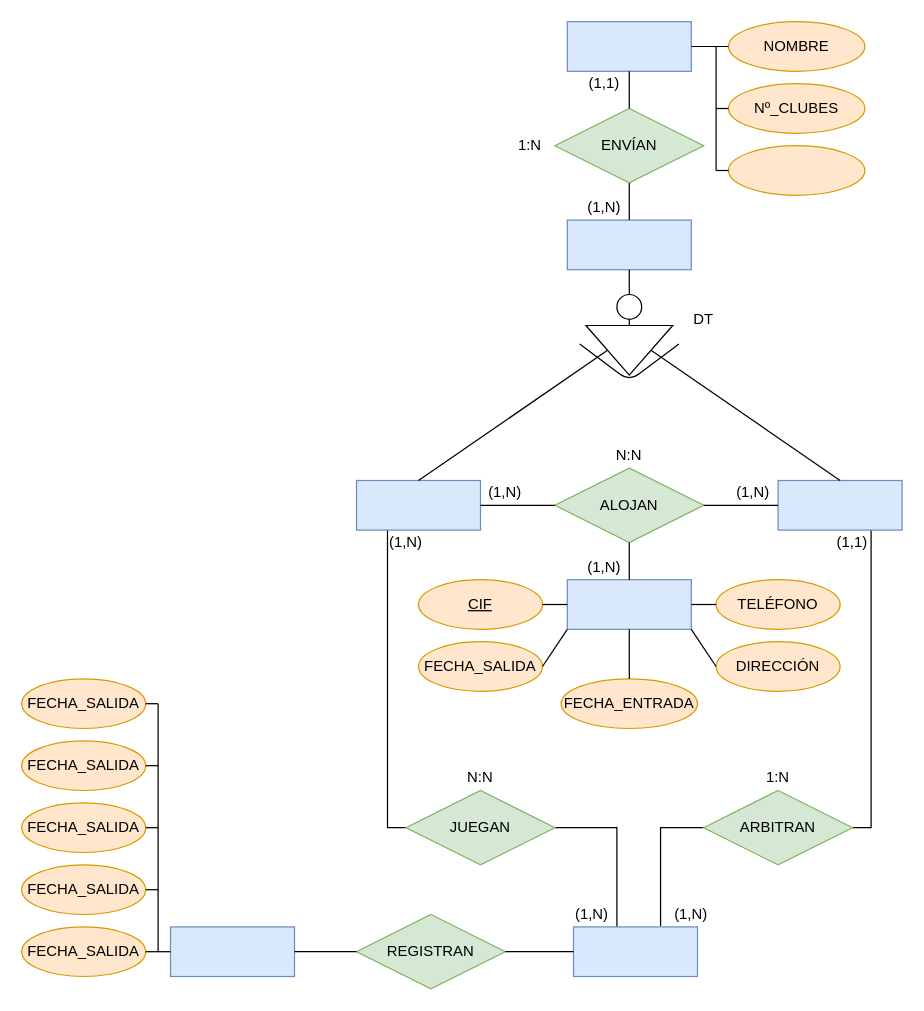
Some shapes in this 924 by 1011 pixel diagram are drawn without their labels. The shapes that lost their labels are listed below. From the top down, each one's centre as x and y in pixels, then its label:
[628,45]: PAÍSES
[796,169]: Nº_CORRELATIVO
[628,244]: PARTICIPANTES
[417,504]: JUGADORES
[839,504]: ÁRBITROS
[628,603]: HOTELES
[231,951]: MOVIMIENTOS
[635,951]: PARTIDA
